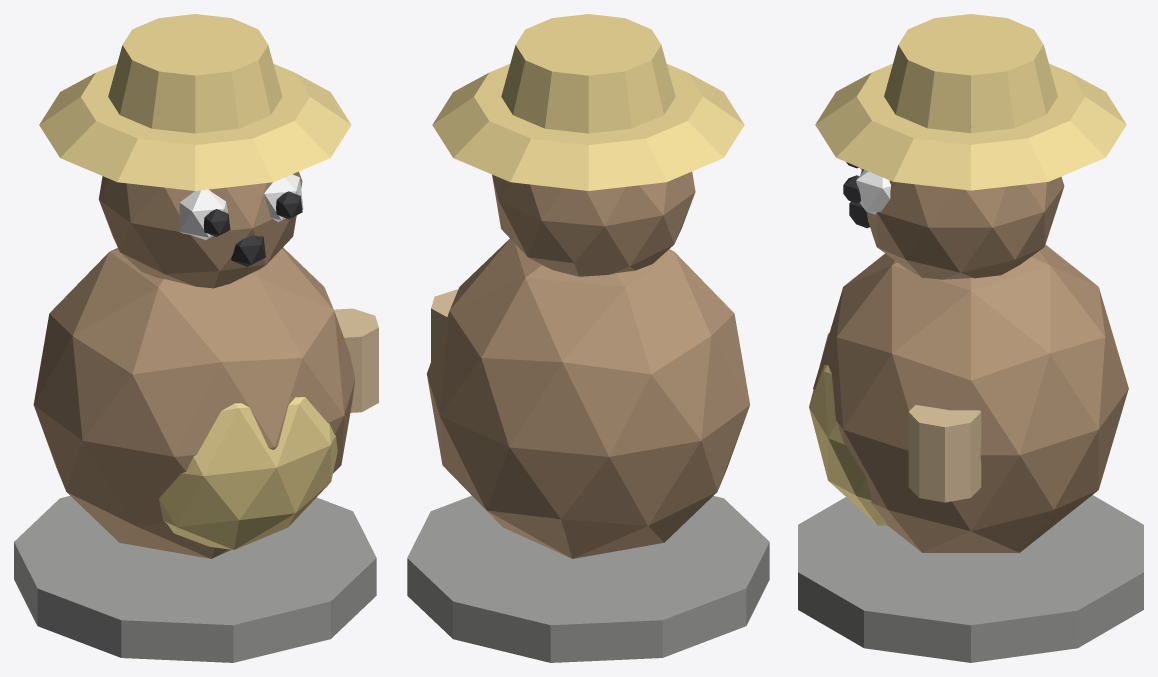
File: tanuki.glb
The picture shows the model from 3 angles, left to right: view 1: azimuth 30°, elevation 25°; view 2: azimuth 150°, elevation 25°; view 3: azimuth 270°, elevation 25°; orthographic projection.
Visible parts, largest first — view 1: tanuki; view 2: tanuki; view 3: tanuki.
Boxes of the visible parts, x1,y1,x2,y2 form: tanuki: (14,14,378,662); tanuki: (407,14,769,662); tanuki: (798,14,1143,662).
Bounding box in the file's own units: 0.72 × 1.15 × 0.6657.
